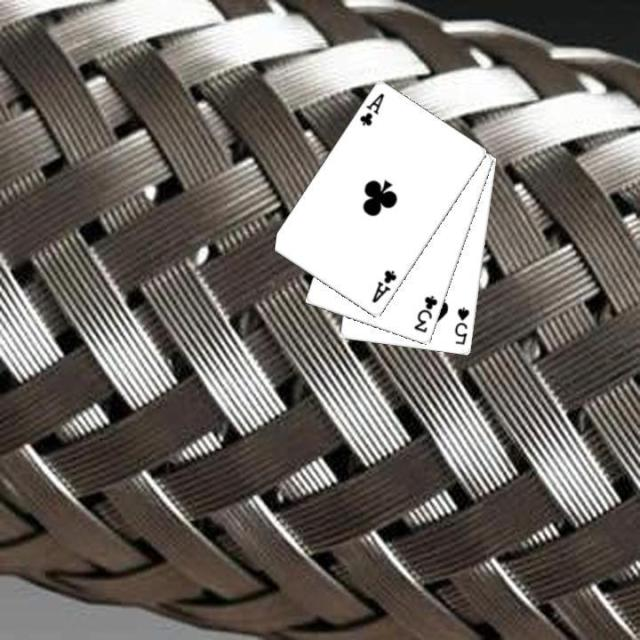3C: (410, 292, 439, 335)
5S: (451, 304, 471, 347)
AC: (368, 267, 398, 305), (356, 90, 386, 128)
